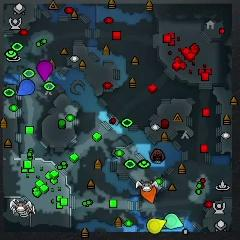p1: (17, 79, 35, 96)
p2: (164, 213, 184, 229)
p3: (37, 61, 53, 82)
p4: (147, 219, 166, 235)
p5: (140, 183, 156, 205)
